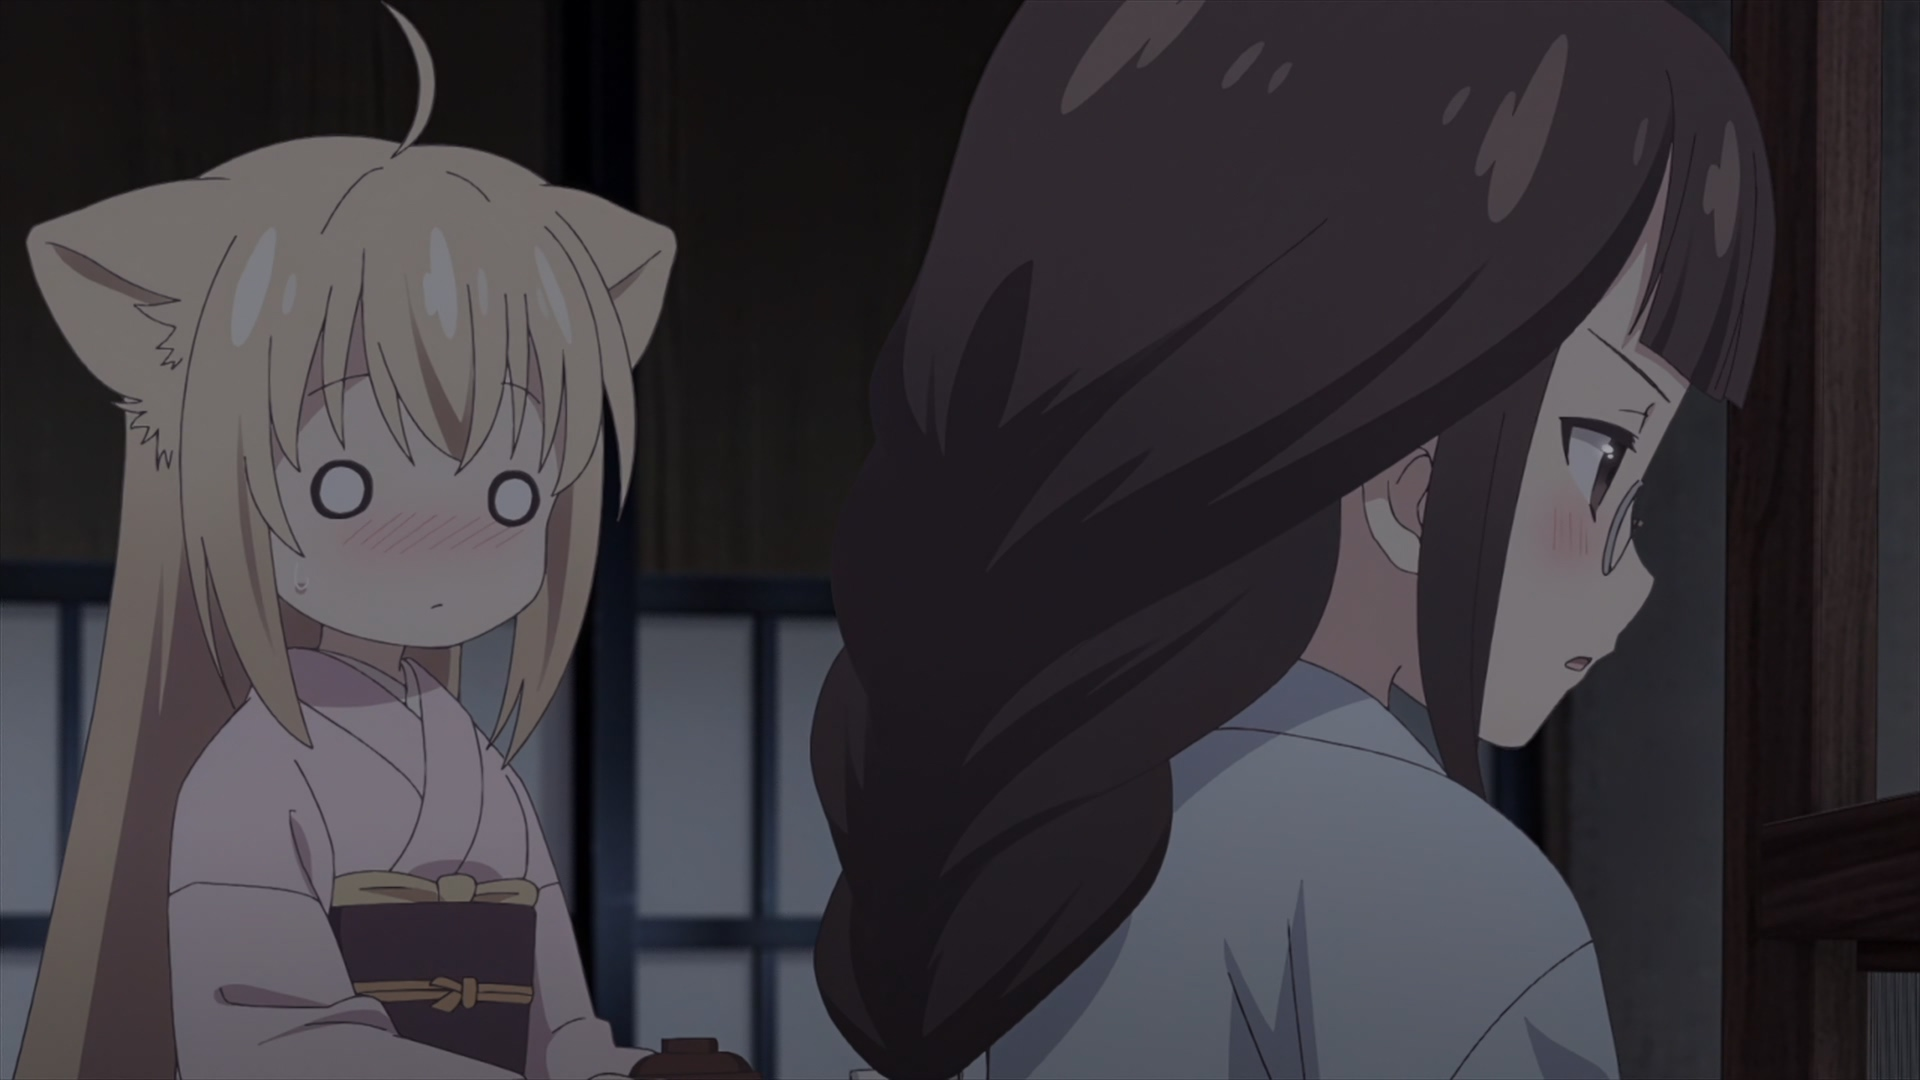其他: (808, 1, 1774, 1080)
柚: (15, 1, 678, 1080)
